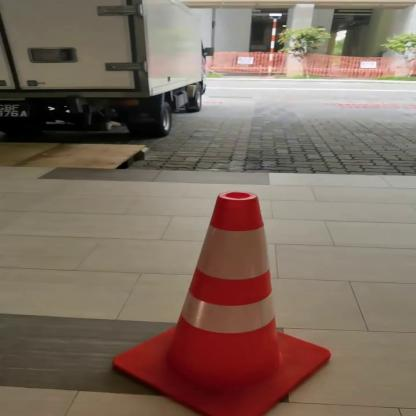cone: (100, 188, 350, 416)
